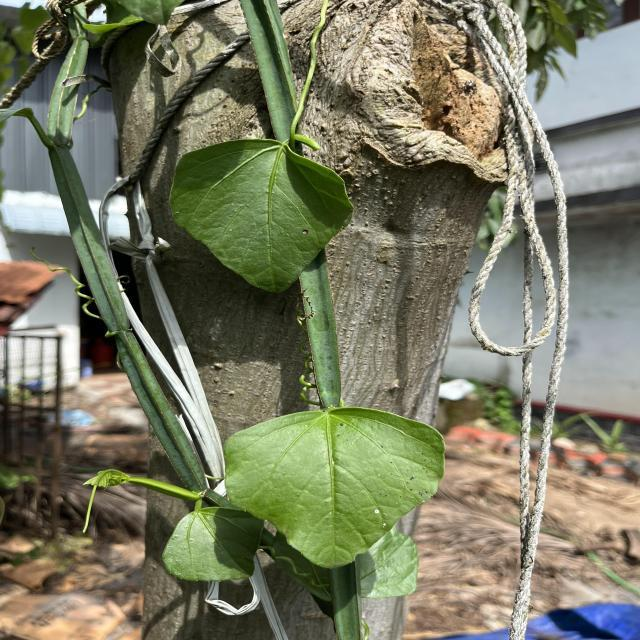Cissus quadrangularis: (221, 403, 448, 572), (165, 136, 358, 298), (156, 504, 268, 584)
